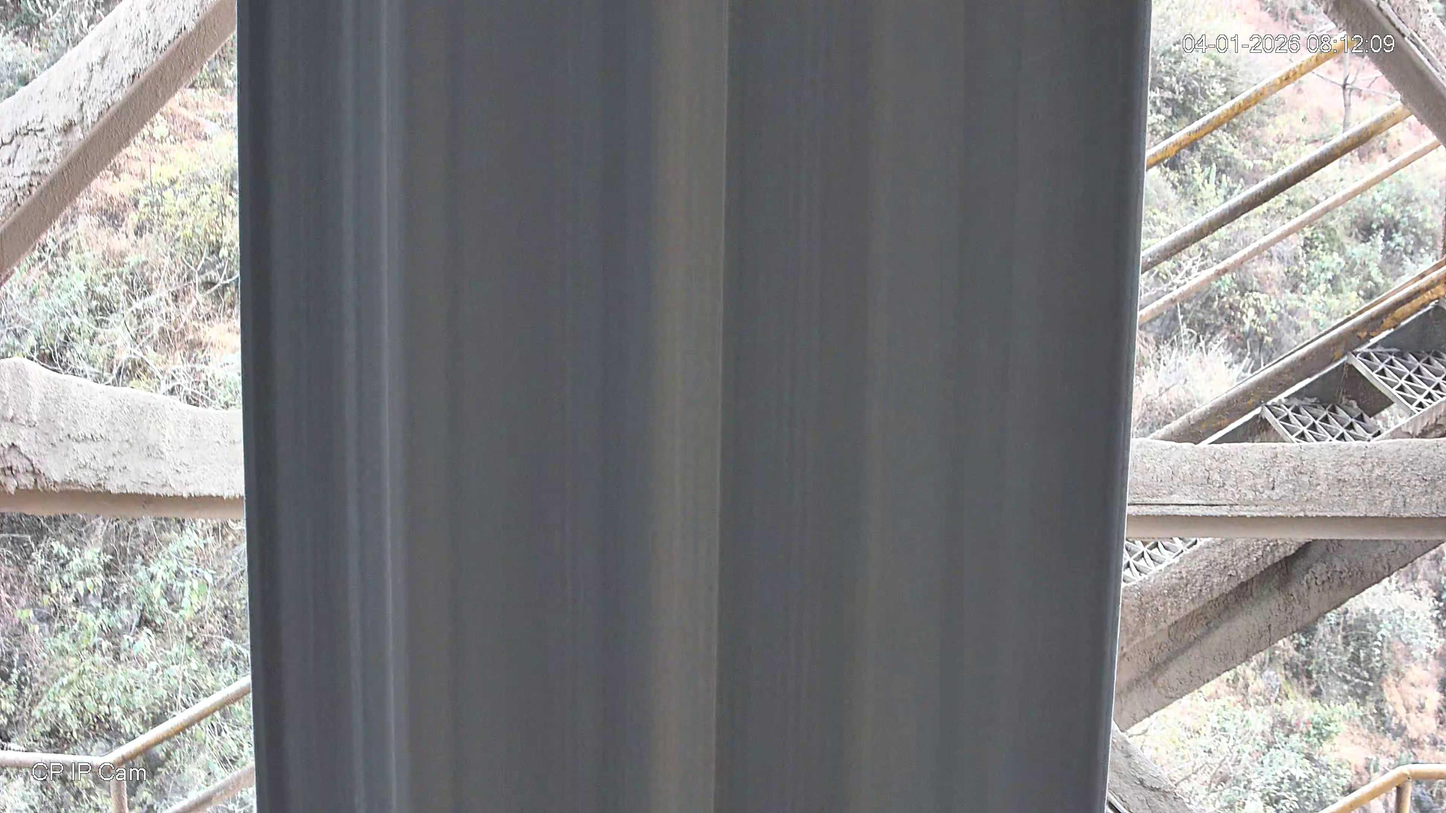belt_roi: (238, 1, 1150, 813)
